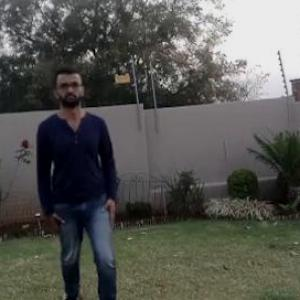follow: (41, 76, 116, 299)
